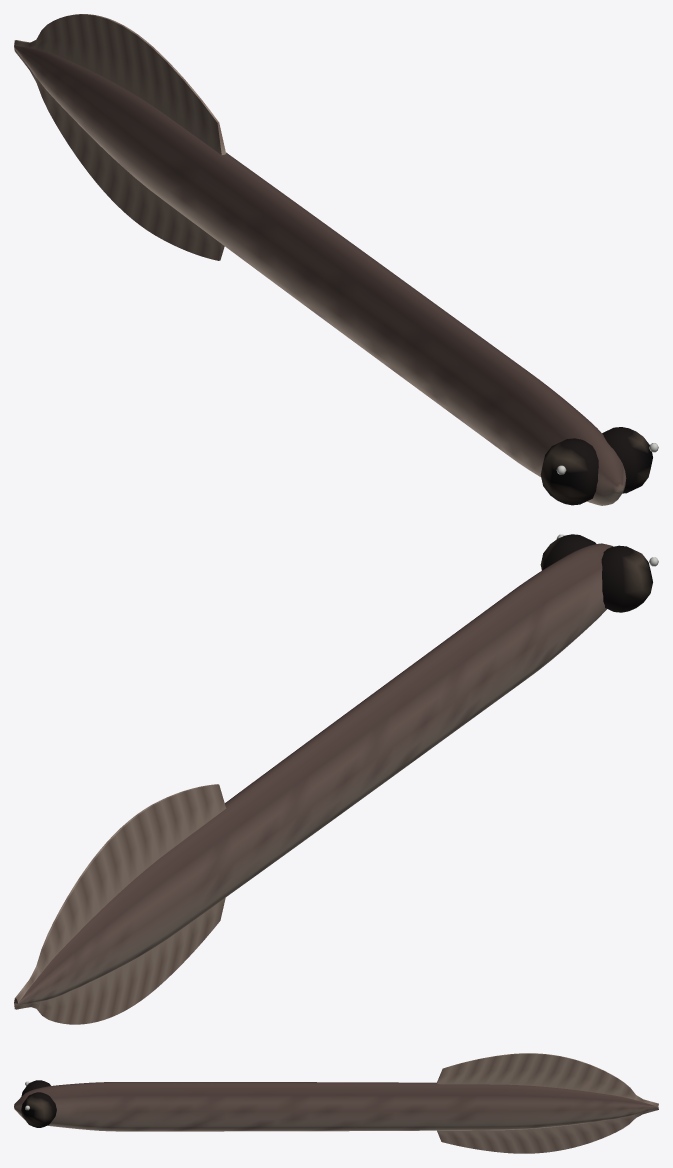
Rendered from PromissumPulchrum.fbx.
3 views of the same model, one above another, from view 1: azimuth 30°, elevation 25°; view 2: azimuth 150°, elevation 25°; view 3: azimuth 270°, elevation 25° (orthographic). The views are drawn at different scales.
Visible parts, largest first — view 1: PromissumPulchrum; view 2: PromissumPulchrum; view 3: PromissumPulchrum.
Boxes of the visible parts, x1=… form: PromissumPulchrum: x1=14, y1=14, x2=658, y2=505; PromissumPulchrum: x1=14, y1=534, x2=658, y2=1024; PromissumPulchrum: x1=14, y1=1053, x2=658, y2=1153.
Bounding box in the file's own units: 0.1757 × 0.3087 × 1.8.
